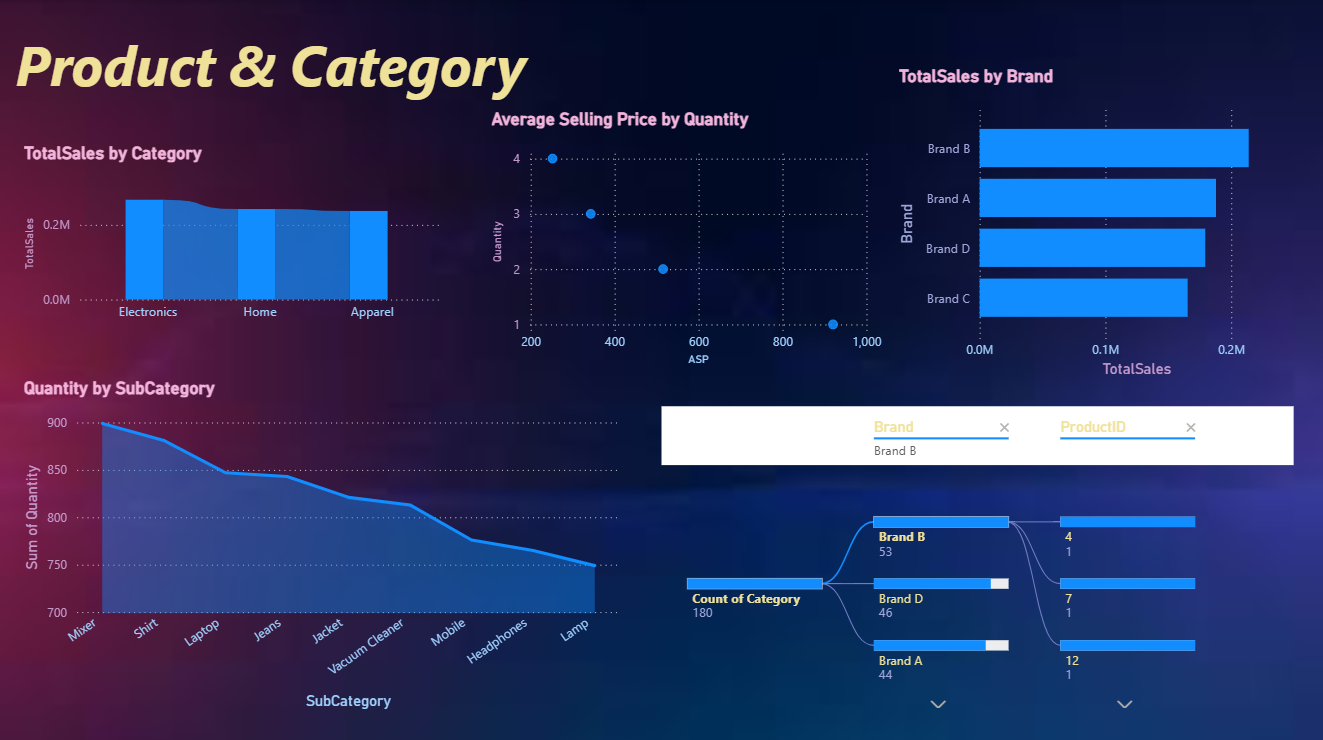

The dashboard page shown, as its layout file describes it:
{"tool":"powerbi","page":{"name":"Product & Category","canvas":[1280,720],"ordinal":2},"visuals":[{"type":"scatterChart","title":"Average Selling Price by Quantity","fields":{"X":["Measures (2).ASP"],"Y":["Sales_Fact.Quantity"]},"box":[475,105.2,376.9,247.5],"z":0},{"type":"barChart","fields":{"Category":["Product_Dim.Brand"],"Y":["Measures (2).TotalSales"]},"box":[869,62.6,395.4,301.5],"z":1000},{"type":"areaChart","title":"Quantity by SubCategory","fields":{"Category":["Product_Dim.SubCategory"],"Y":["Sum(Sales_Fact.Quantity)"]},"box":[24.2,364.1,574.6,320],"z":2000},{"type":"ribbonChart","fields":{"Category":["Product_Dim.Category"],"Y":["Measures (2).TotalSales"]},"box":[24.2,138,401.1,176.4],"z":3000},{"type":"decompositionTreeVisual","fields":{"Analyze":["CountNonNull(Product_Dim.Category)"],"ExplainBy":["Product_Dim.Brand","Product_Dim.ProductID"]},"box":[640,392.5,610.1,291.6],"z":4000},{"type":"textbox","box":[11.4,19.9,506.3,85.3],"z":4001}]}

Visuals, with their boxes in screenshot pixels (x1, y1, x2, y2), scaled from the page's 1280x720 canvas onto the 1323x740 screenshot:
"Average Selling Price by Quantity" scatterChart: (491, 108, 881, 362)
barChart - Product_Dim.Brand x Measures (2).TotalSales: (898, 64, 1307, 374)
"Quantity by SubCategory" areaChart: (25, 374, 619, 703)
ribbonChart - Product_Dim.Category x Measures (2).TotalSales: (25, 142, 440, 323)
decompositionTreeVisual - CountNonNull(Product_Dim.Category) x Product_Dim.Brand: (662, 403, 1292, 703)
textbox: (12, 20, 535, 108)
